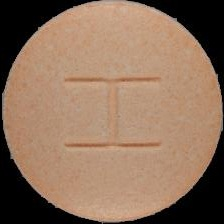31722-522: (0, 0, 224, 224)
